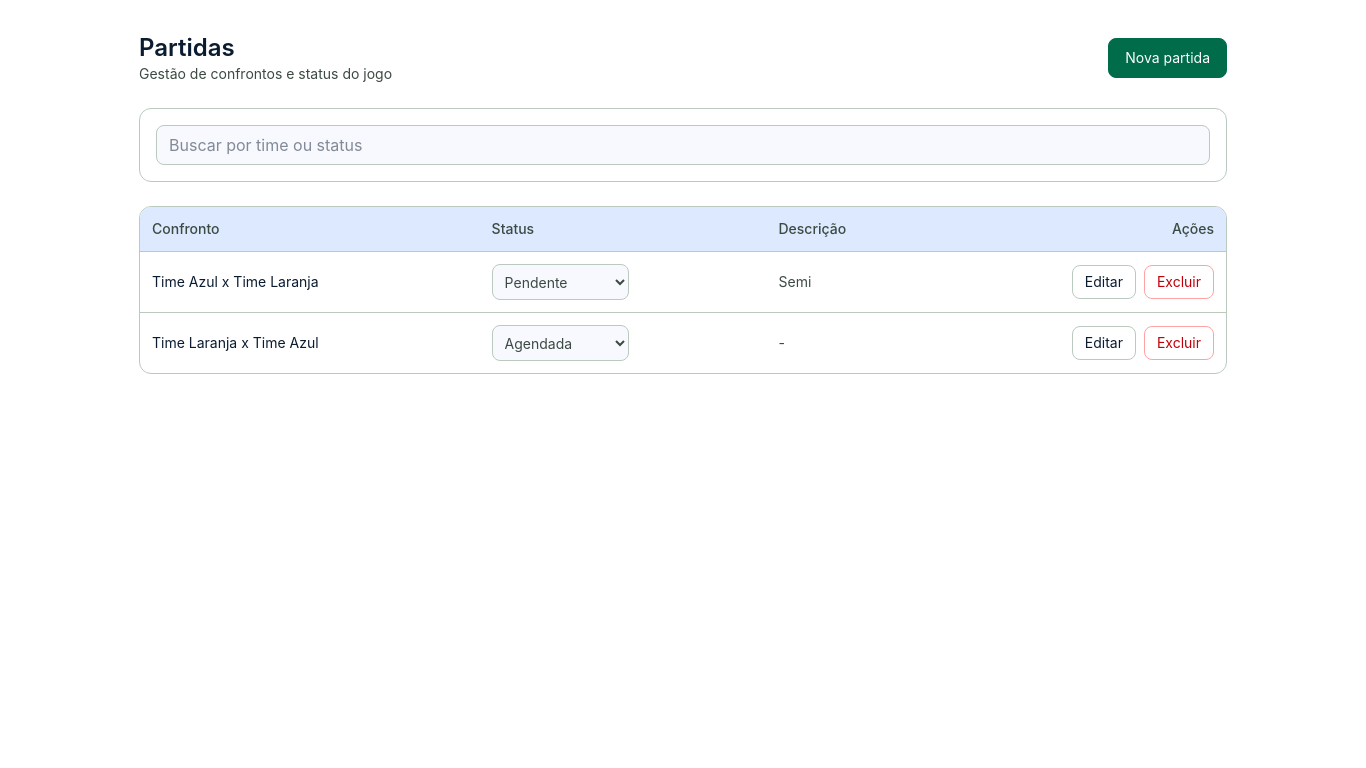
Test: MatchesPage › deve bloquear submit quando times são iguais
Click the button "Nova partida" at [1168, 58], box [1108, 38, 1227, 78]
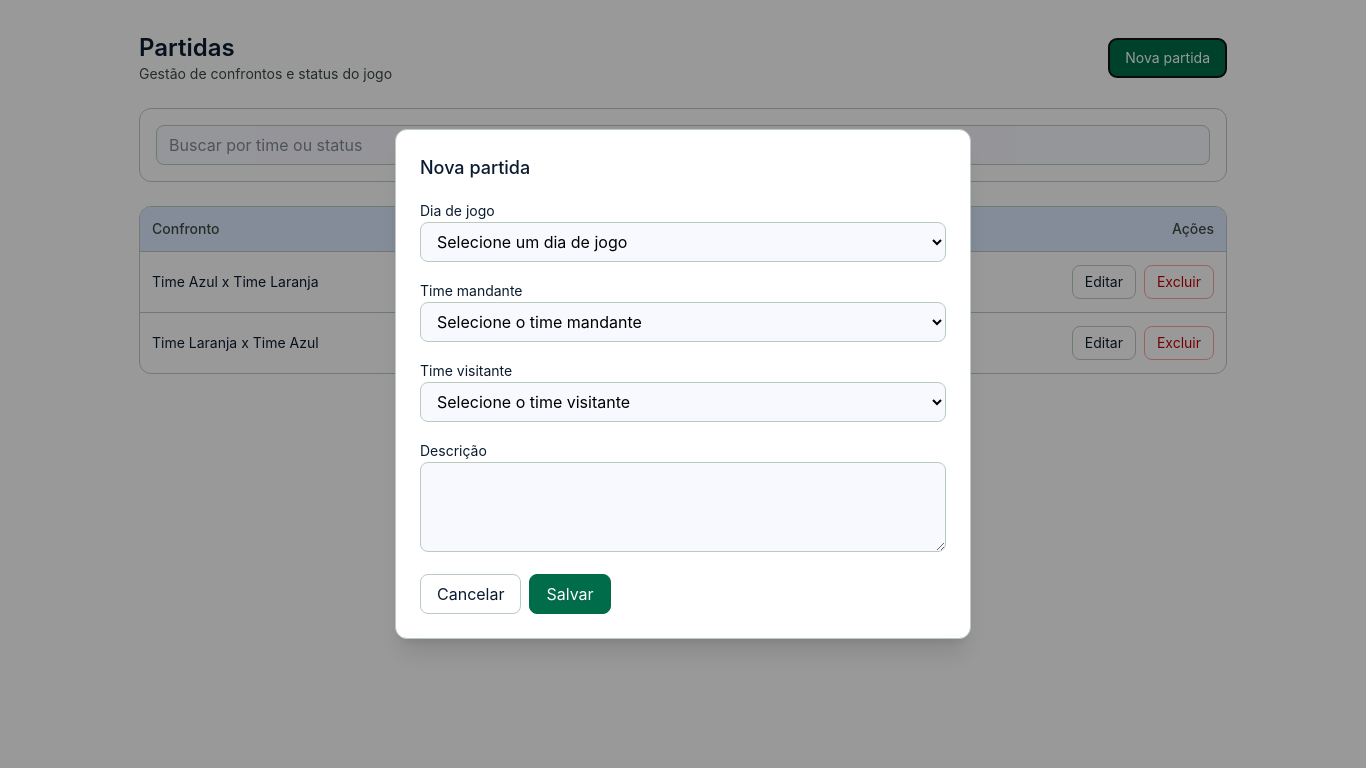
Select "10/05/2026, 10:00" in the dropdown labelled "Dia de jogo" at [683, 242], box [420, 222, 946, 262]
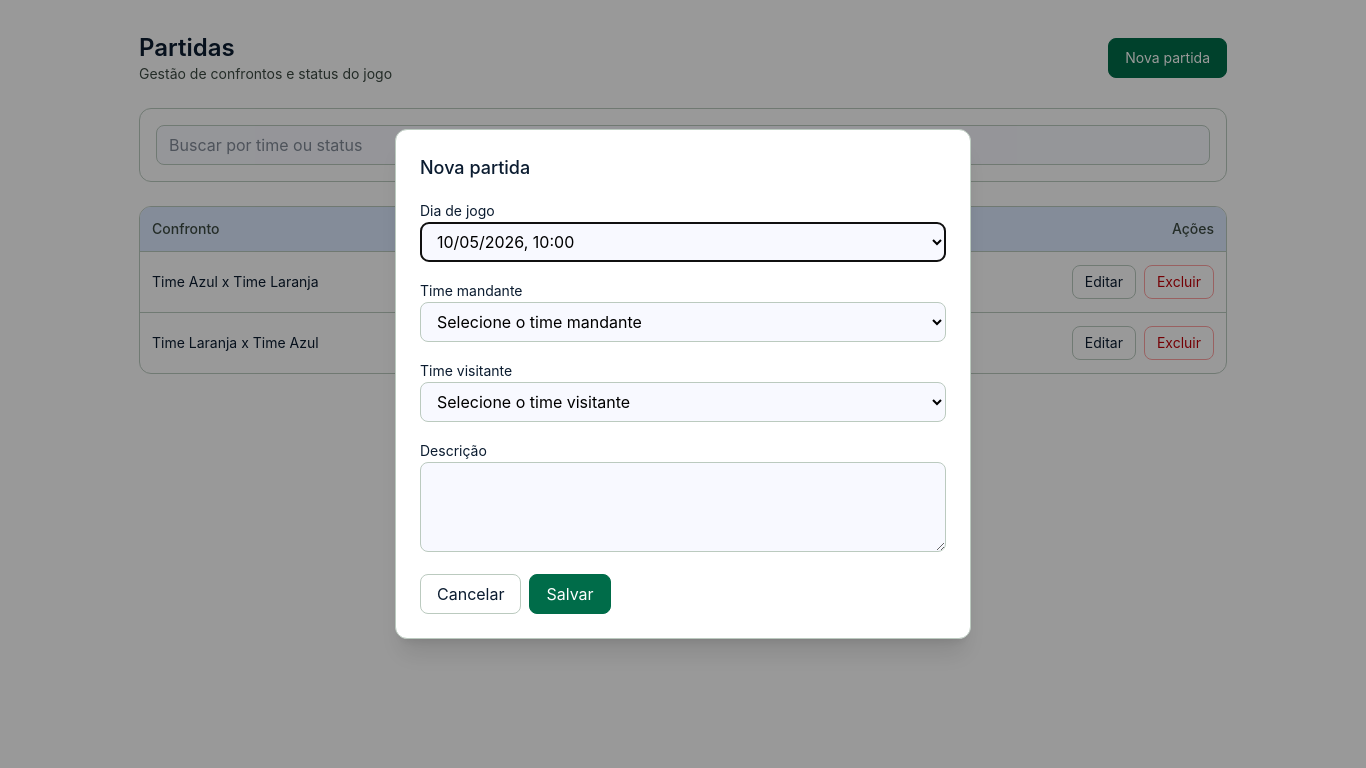
Select "Time Azul" in the dropdown labelled "Time mandante" at [683, 322], box [420, 302, 946, 342]
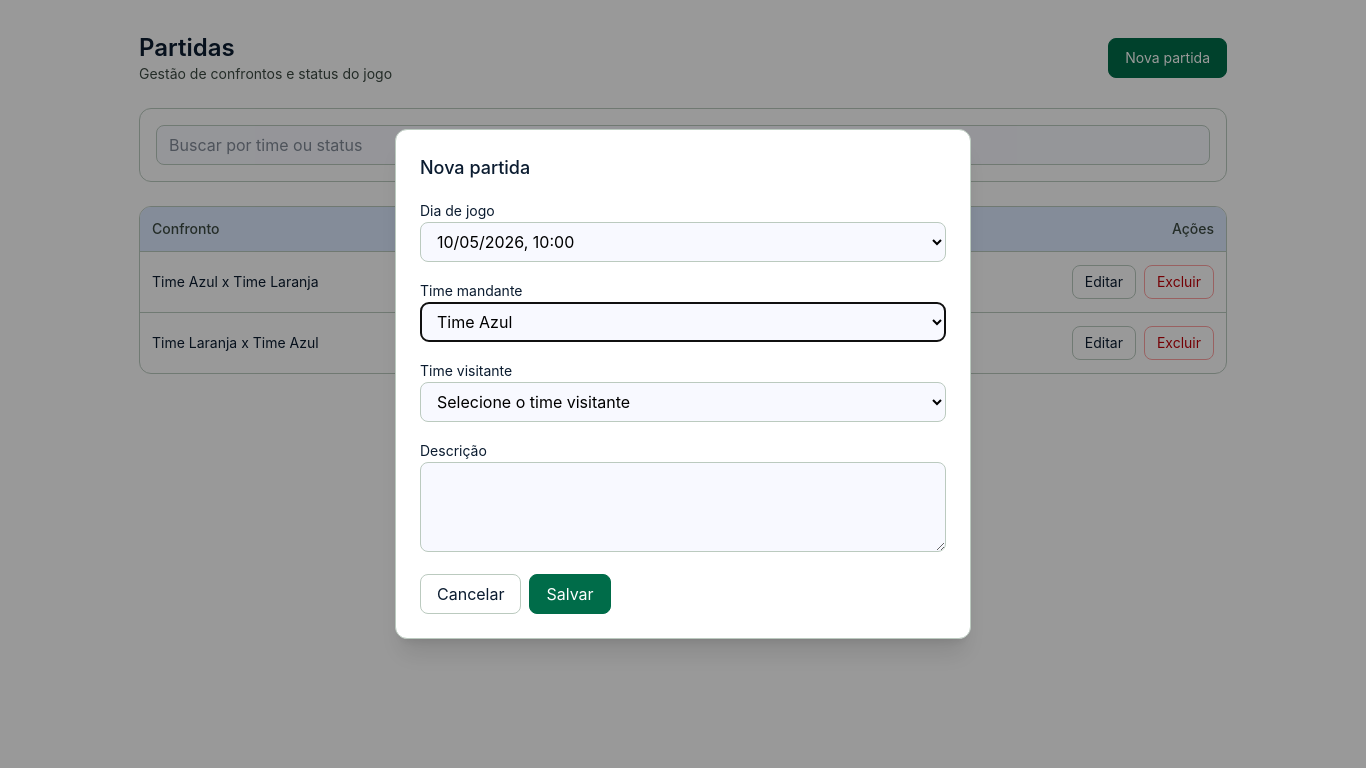
Select "Time Azul" in the dropdown labelled "Time visitante" at [683, 402], box [420, 382, 946, 422]
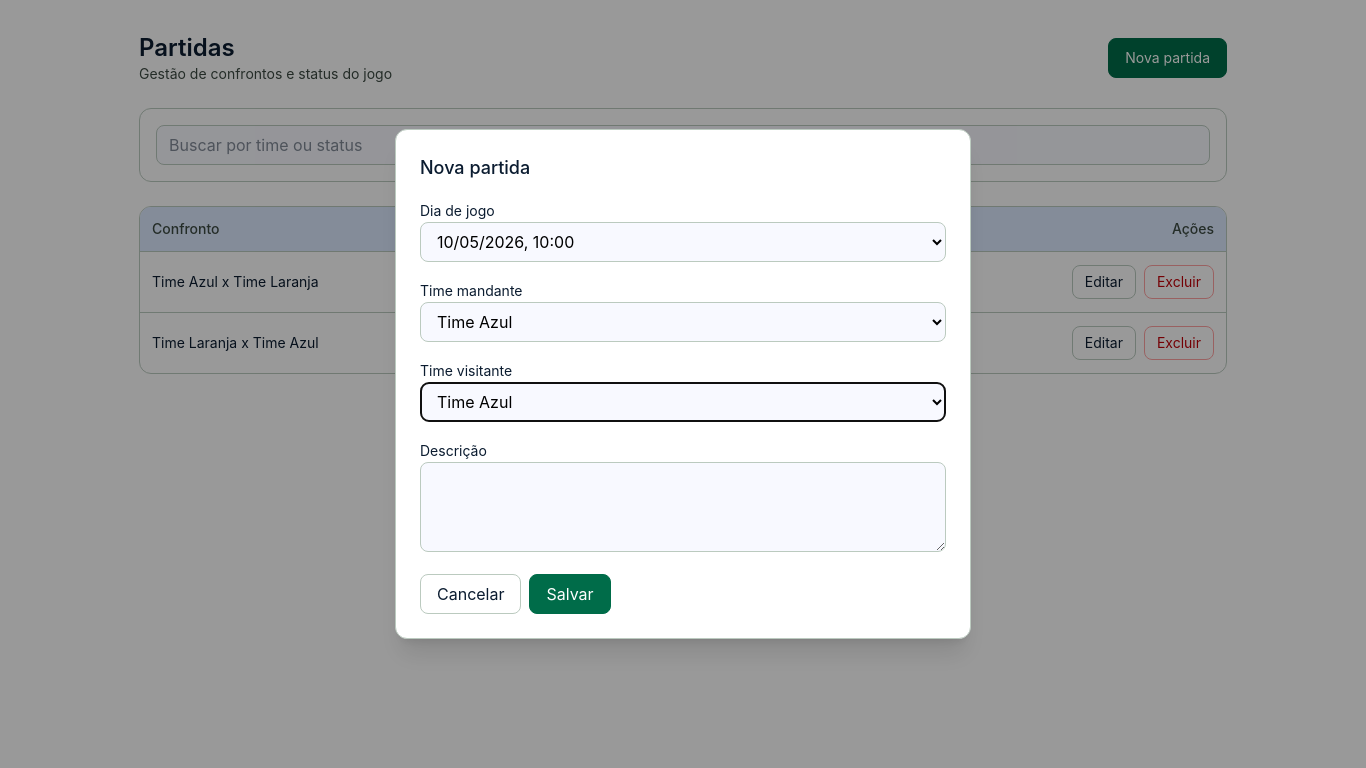
Click the button "Salvar" at [570, 594], box [530, 574, 611, 614]
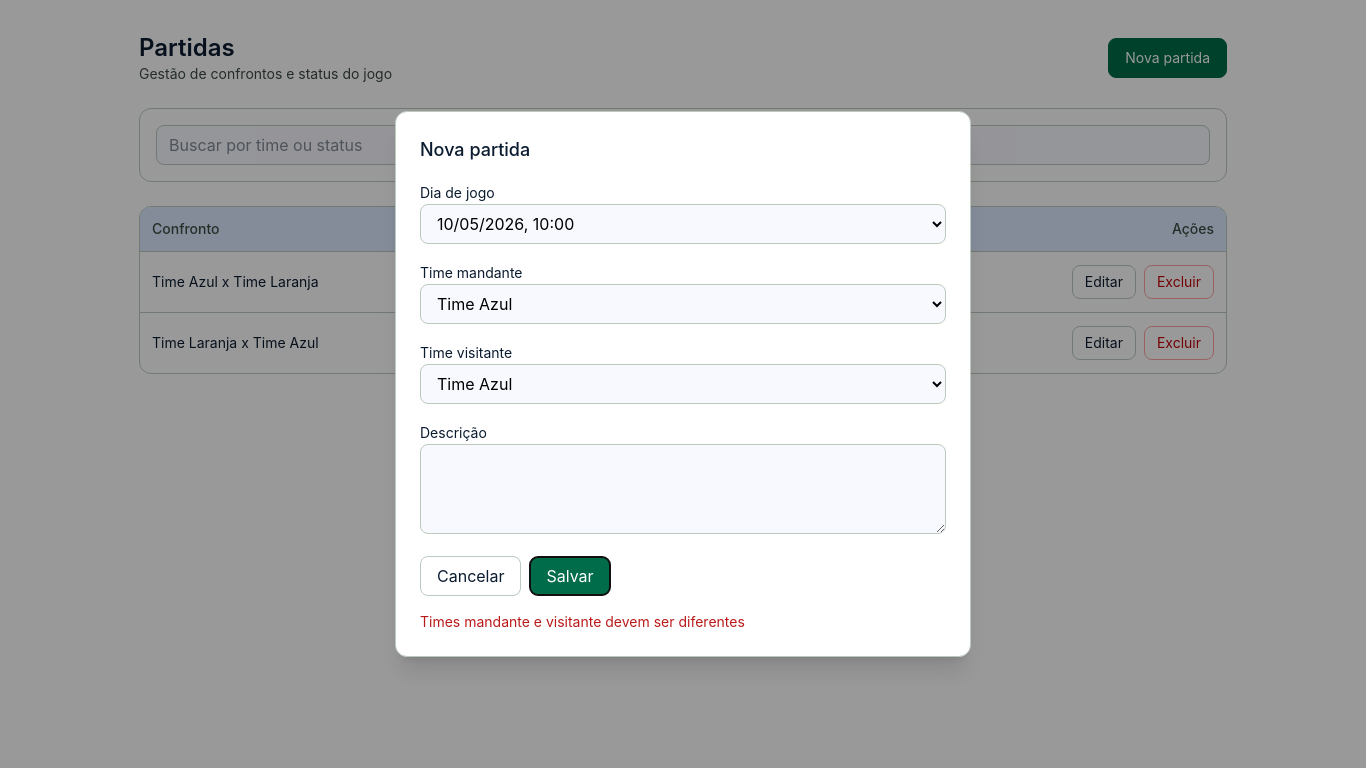
expect the text "Times mandante e visitante devem ser diferentes" is shown: met, box [420, 613, 745, 630]
